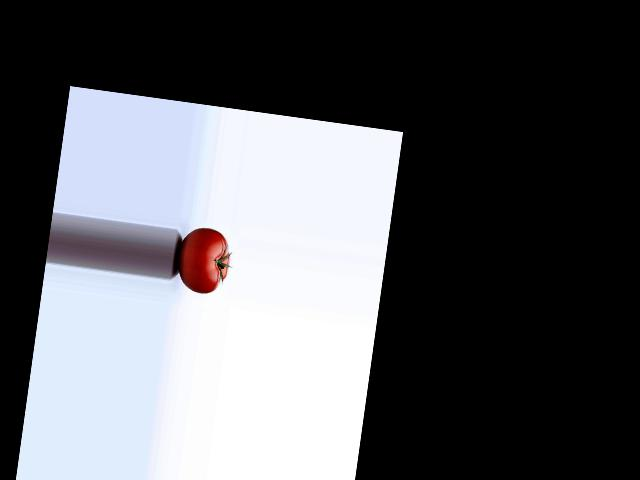tomato: (174, 225, 233, 296)
